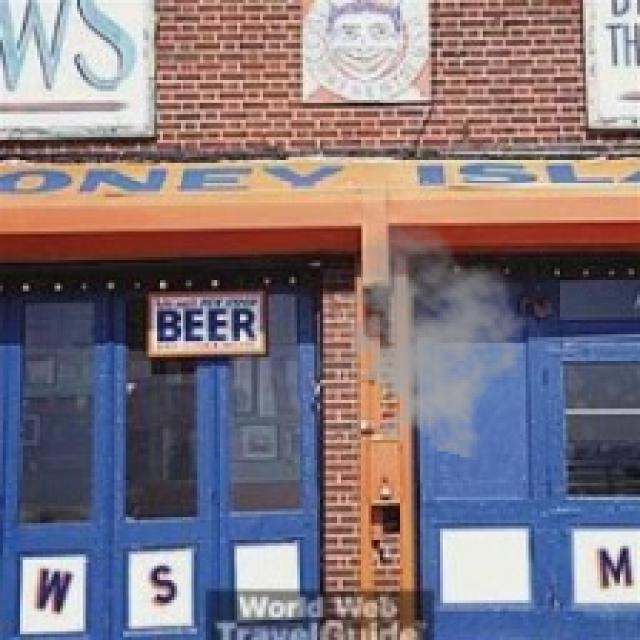smoke: (328, 220, 532, 460)
